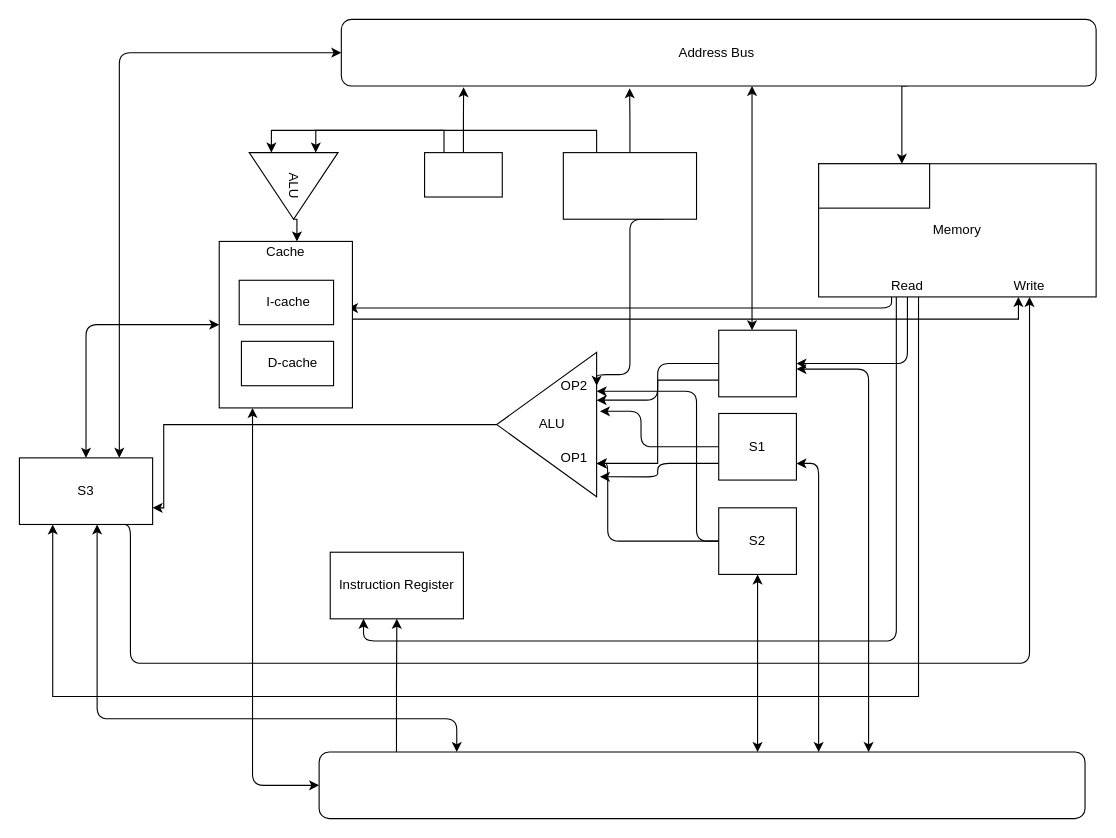
The diagram is 1116 pixels wide and 838 high, and some of its shapes have lost their labels. Here are the shapes that lost their labels. From the top down, the centre of each, then its label:
the point at 462,174: NPC
the point at 629,185: Program Counter
the point at 874,185: MAR
the point at 757,363: s0
the point at 701,785: Data Bus
